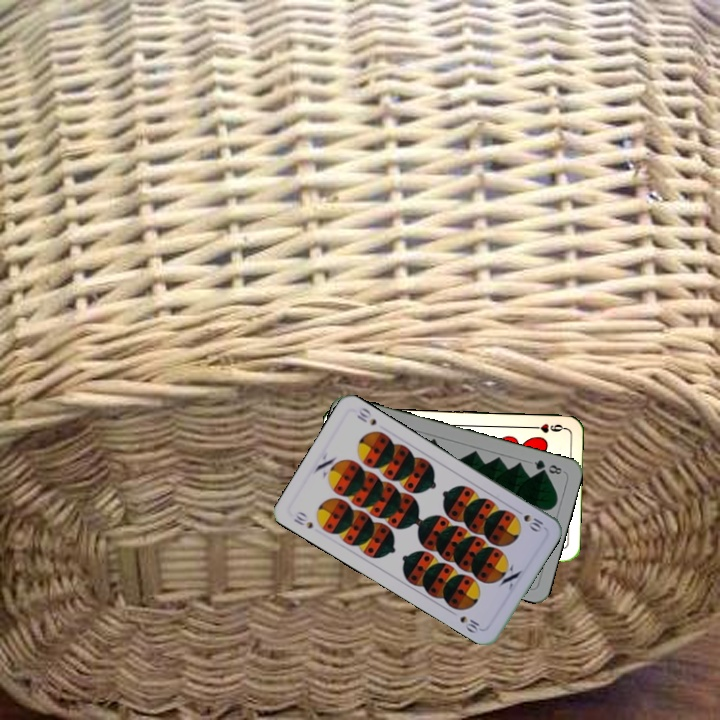G8: (530, 456, 564, 477)
H9: (527, 419, 567, 435)
S10: (519, 510, 547, 534), (289, 507, 316, 531)
